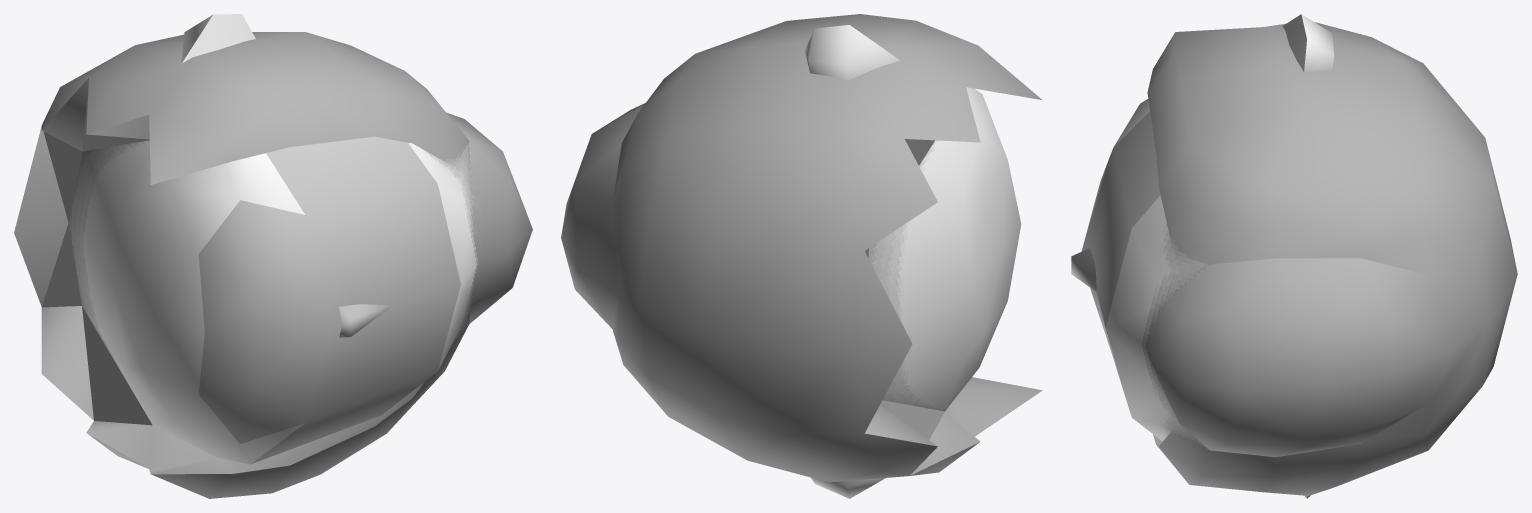
Rendered from girl10a.dae.
The picture shows the model from 3 angles, left to right: view 1: azimuth 30°, elevation 25°; view 2: azimuth 150°, elevation 25°; view 3: azimuth 270°, elevation 25°; orthographic projection.
Visible parts, largest first — view 1: vsn_mesh_0_, vsn_mesh_1_, vsn_mesh_2_; view 2: vsn_mesh_0_; view 3: vsn_mesh_0_, vsn_mesh_1_.
Boxes of the visible parts, x1,y1,x2,y2 form: vsn_mesh_0_: (14,14,532,498); vsn_mesh_1_: (252,136,460,463); vsn_mesh_2_: (198,200,330,443); vsn_mesh_0_: (561,14,1042,498); vsn_mesh_0_: (1105,14,1517,498); vsn_mesh_1_: (1071,111,1160,407).
Bounding box in the file's own units: 24.29 × 26.71 × 22.58.
Materials: 3 (1 with a texture image).
